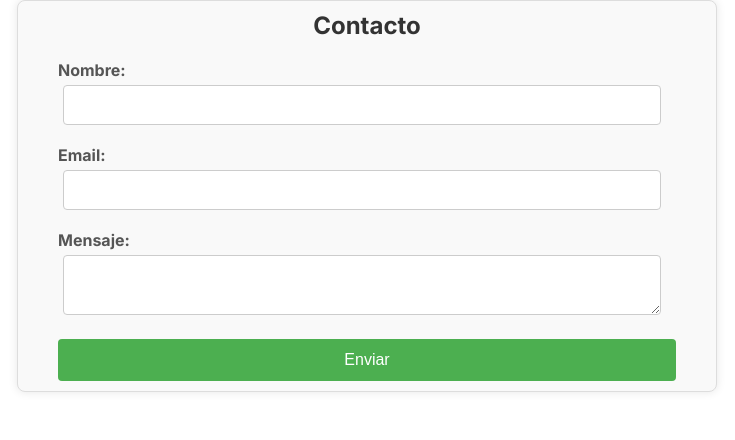
ContactForm › displays success message when form is submitted successfully
Type "John Doe" into the field labelled "Nombre:".
click(362, 105); type("John Doe")  # box [63,85,661,125]
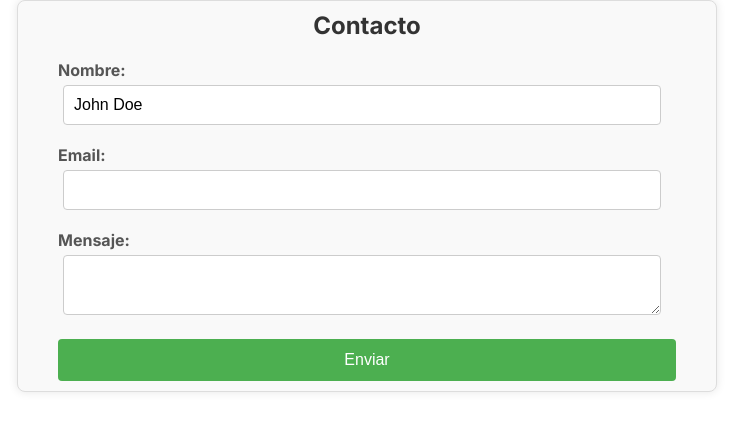
Type "john.doe@example.com" into the field labelled "Email:".
click(362, 190); type("john.doe@example.com")  # box [63,170,661,210]
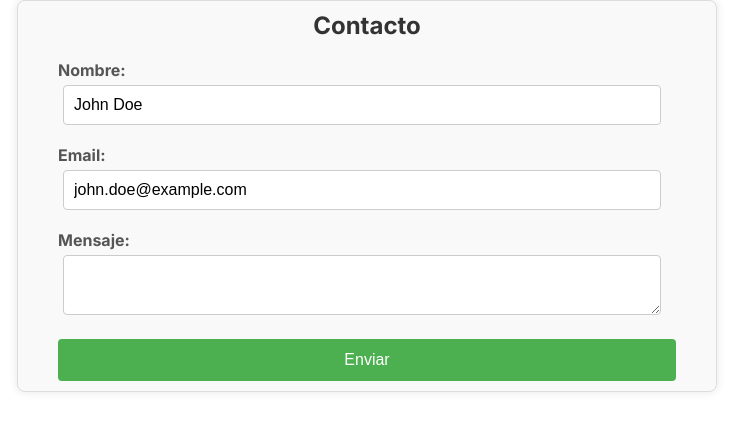
Type "Hello, this is a test message." into the text box labelled "Mensaje:".
click(362, 285); type("Hello, this is a test message.")  # box [63,255,661,315]
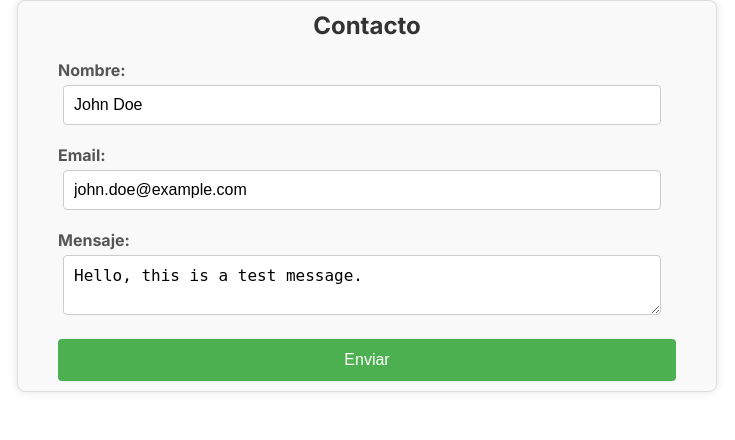
Click the button "Enviar".
click(367, 360)  # box [58,339,676,381]
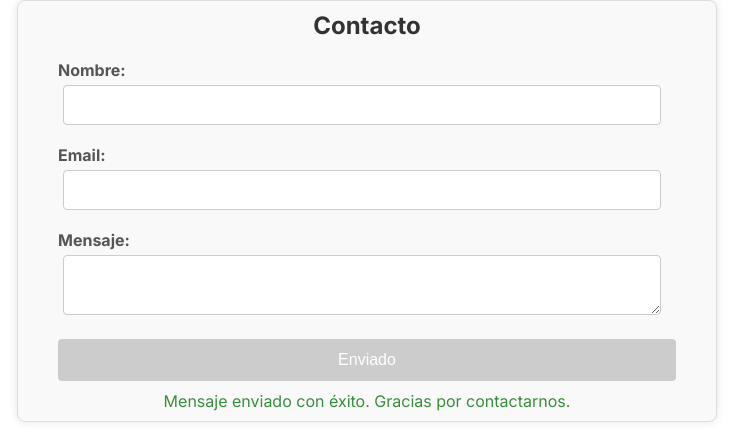
Expected: the text "Mensaje enviado con éxito. Gracias por contactarnos." is shown, [164,391,570,411]
